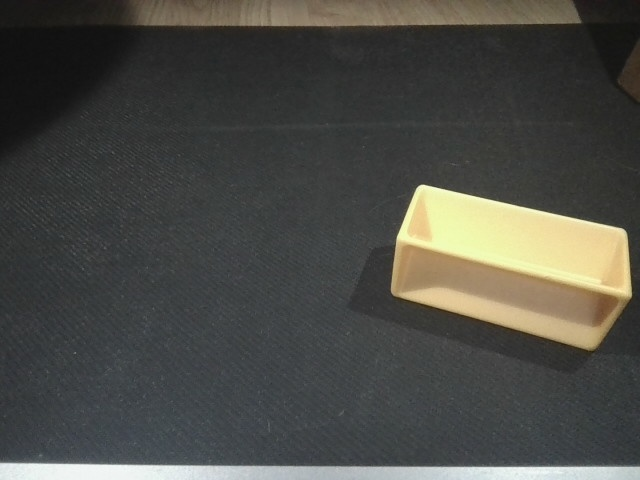YellowSample: (385, 180, 633, 368)
